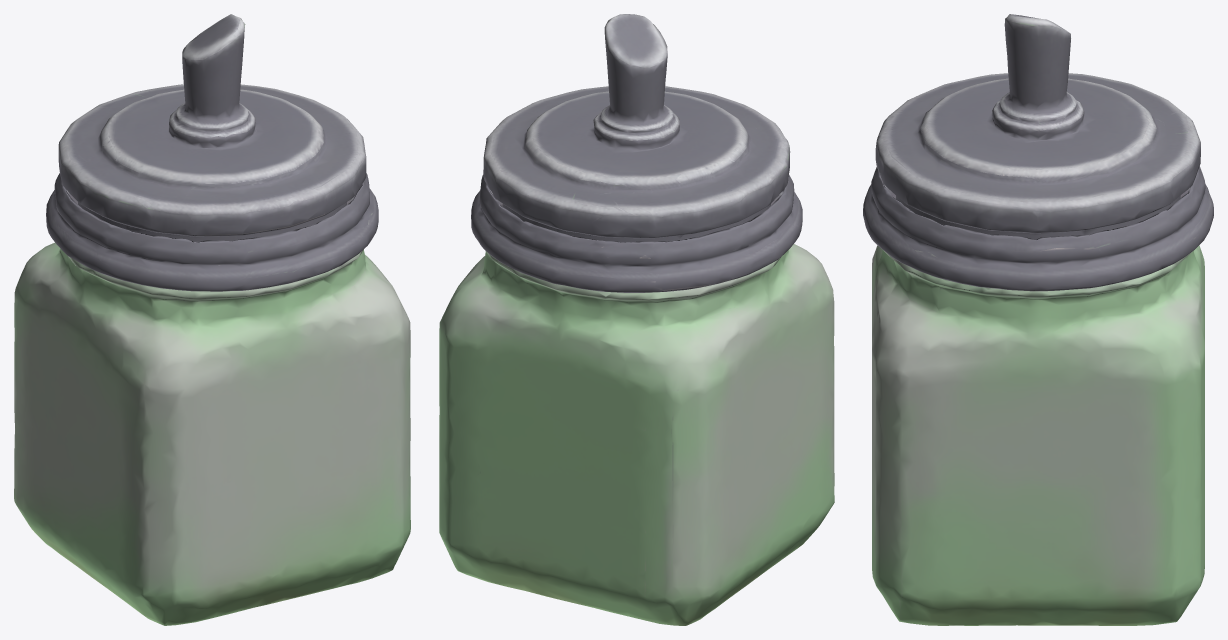
Rendered from studentcafe_SugarDispenser.glb.
3 renders of one model, left to right at view 1: azimuth 30°, elevation 25°; view 2: azimuth 150°, elevation 25°; view 3: azimuth 270°, elevation 25°, orthographic. The views are drawn at different scales.
Visible parts, largest first — view 1: world; view 2: world; view 3: world.
Boxes of the visible parts, <box> form: world: <box>14,14,410,625</box>; world: <box>439,14,834,625</box>; world: <box>863,14,1213,625</box>.
Bounding box in the file's own units: 0.563 × 1 × 0.5617.
Materials: 1 (1 with a texture image).
